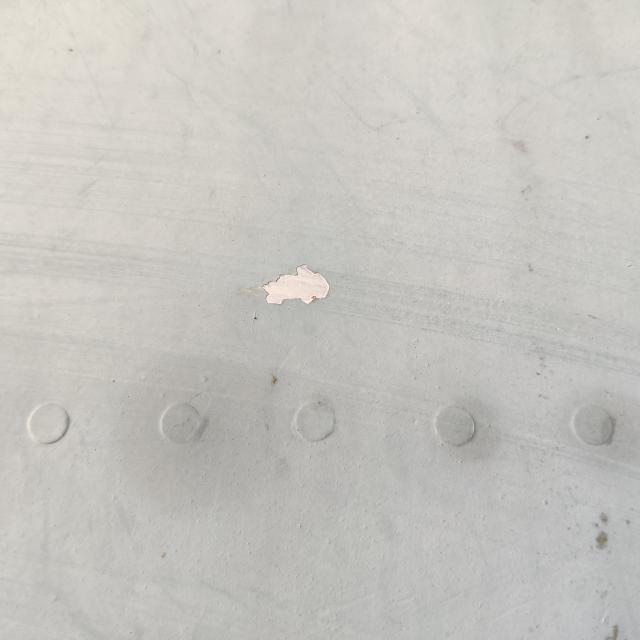paint-off: (243, 243, 350, 329)
